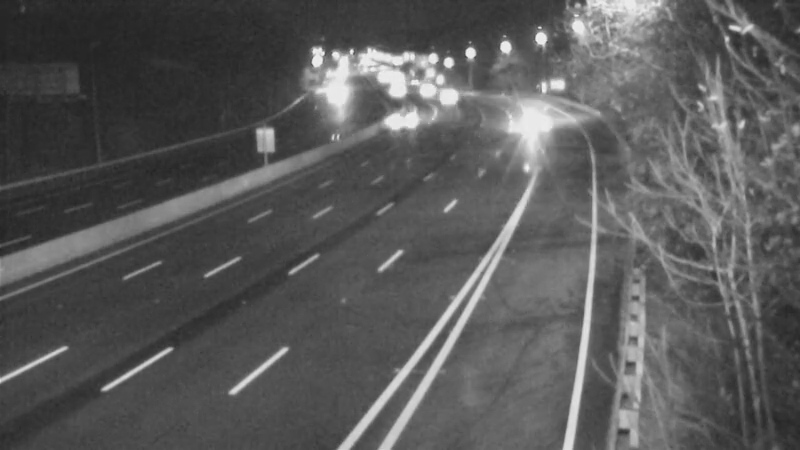vehicle: (400, 64, 450, 114), (368, 65, 418, 115), (420, 72, 470, 122), (518, 96, 568, 146), (376, 91, 426, 141)
